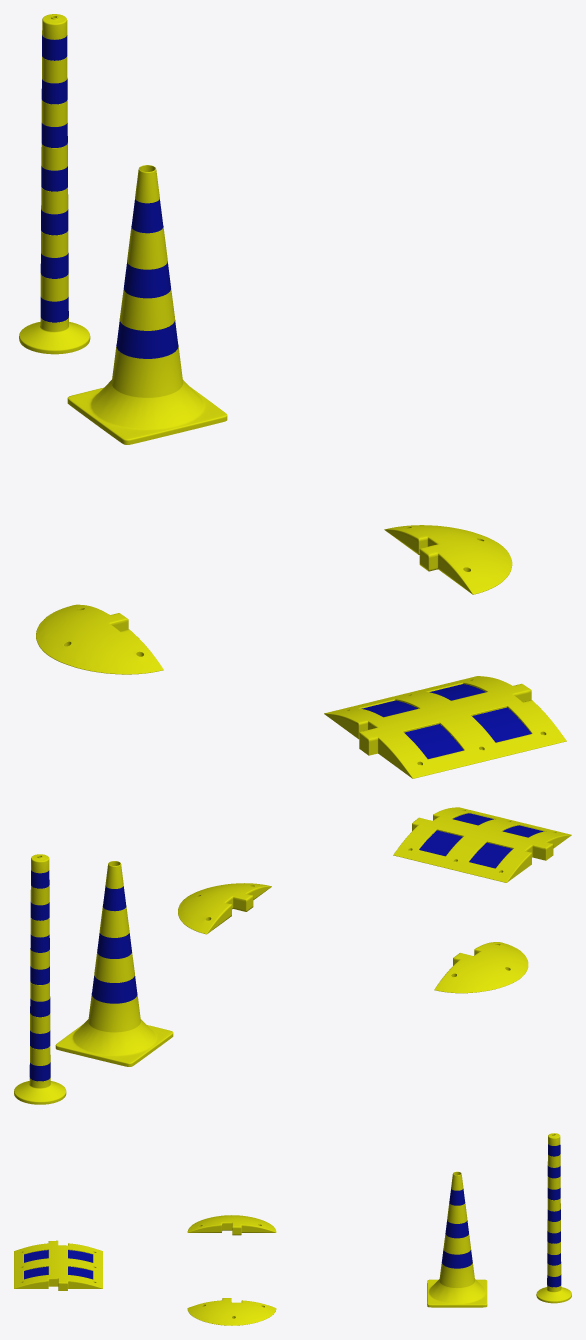
File: roadStuffNew.FBX
3 views of the same model, one above another, from view 1: azimuth 30°, elevation 25°; view 2: azimuth 150°, elevation 25°; view 3: azimuth 270°, elevation 25° (orthographic). The views are drawn at different scales.
Visible parts, largest first — view 1: cone_large, speed bump_central part, speed bump_lateral part (×2), post_large; view 2: cone_large, speed bump_central part, speed bump_lateral part (×2), post_large; view 3: cone_large, speed bump_central part, speed bump_lateral part (×2), post_large.
Boxes of the visible parts, box(x1,y1,x2,y2) form: cone_large: box(67, 165, 227, 444); speed bump_central part: box(324, 676, 566, 778); speed bump_lateral part (×2): box(36, 525, 512, 674); post_large: box(19, 14, 90, 354); cone_large: box(55, 861, 173, 1066); speed bump_central part: box(393, 807, 571, 882); speed bump_lateral part (×2): box(178, 883, 528, 993); post_large: box(14, 854, 66, 1104); cone_large: box(427, 1171, 487, 1307); speed bump_central part: box(14, 1240, 102, 1290); speed bump_lateral part (×2): box(187, 1215, 276, 1325); post_large: box(536, 1133, 571, 1303).
Bounding box in the file's own units: 147 × 100 × 314.
